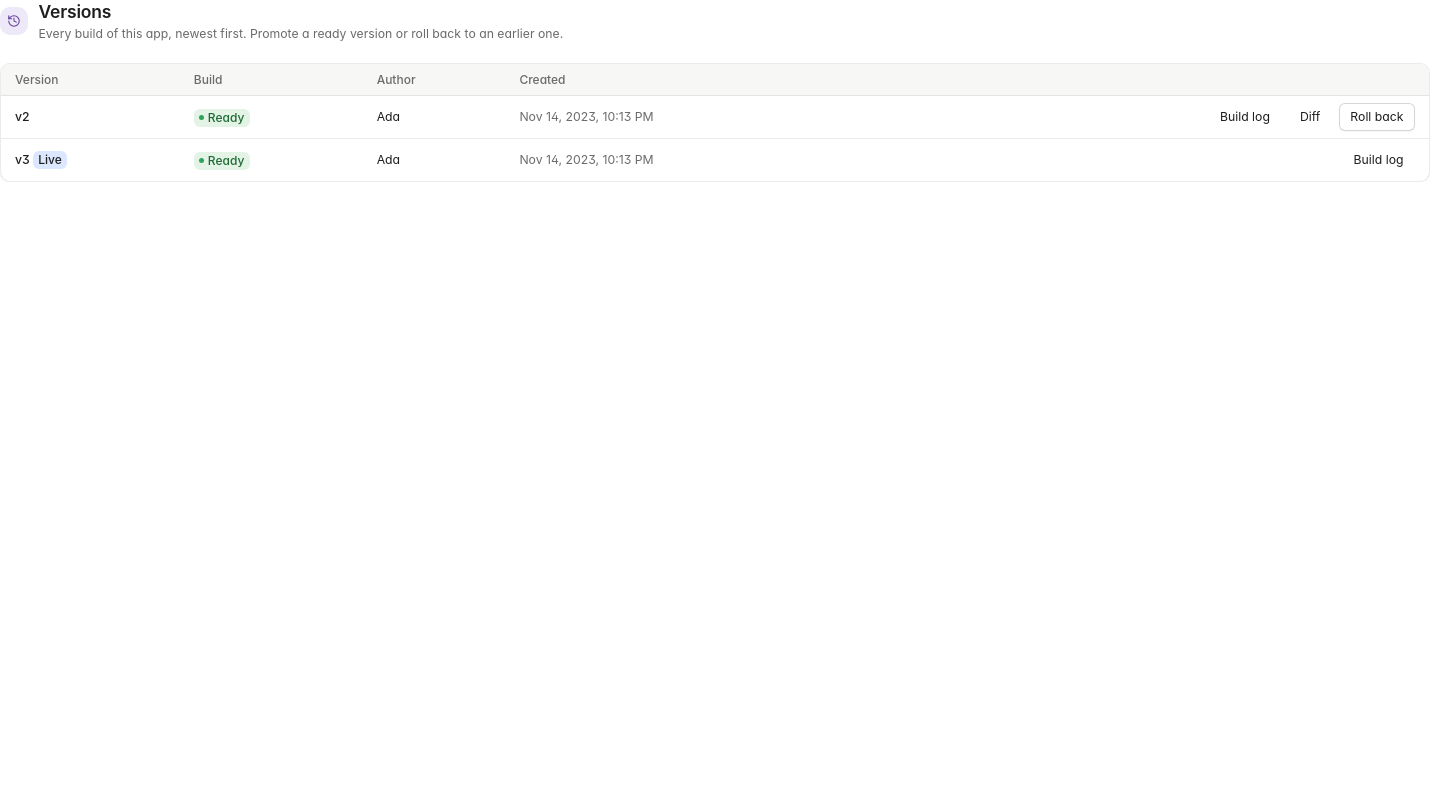
VersionsView › diff lists changed files against live
Step 1. Click the button with aria-label "Diff version 2 against live" → (1310, 117), box [1288,103,1332,131]
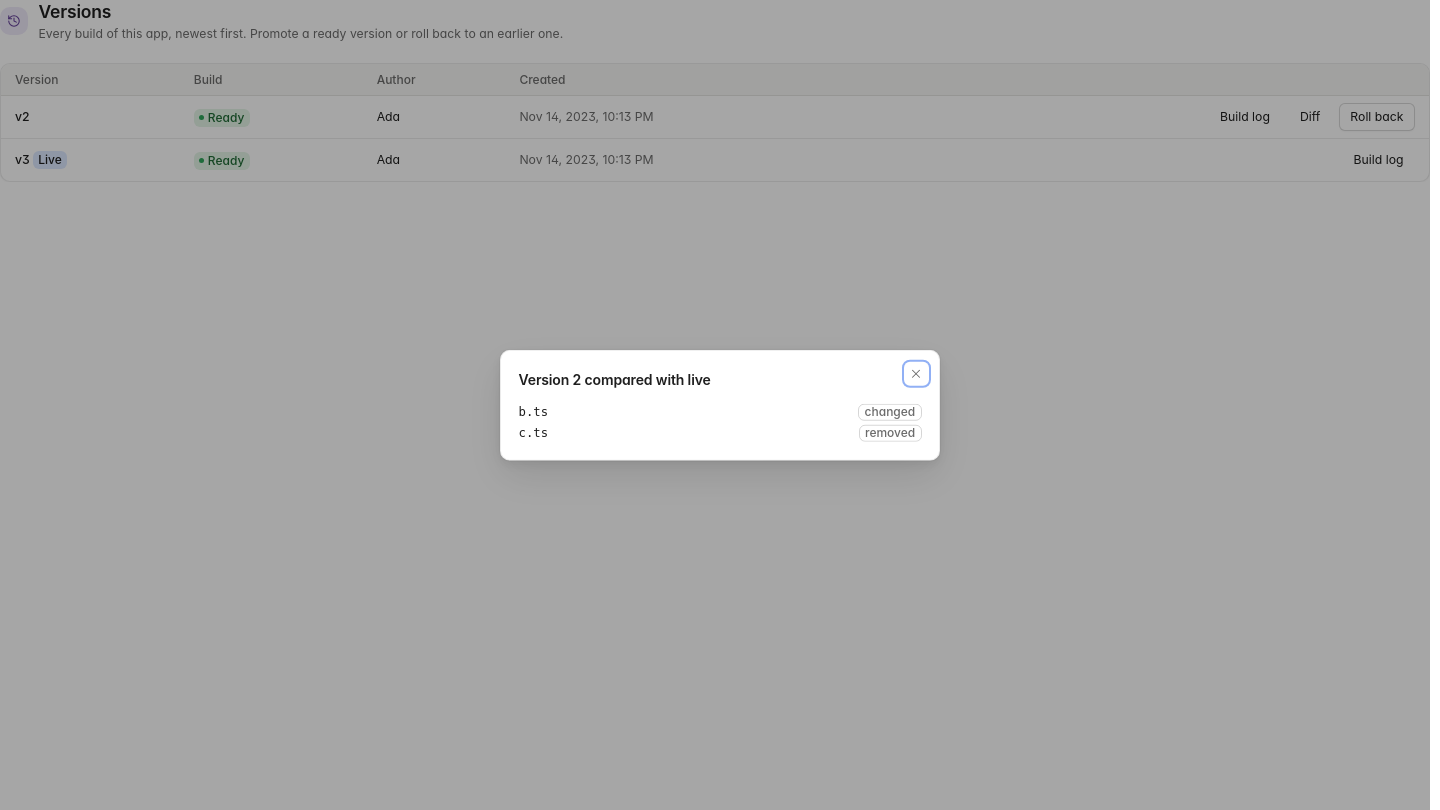
Now the text "b.ts" is shown, box [518,403,548,421]
Now the list item "b.ts" shows "changed", box [865,404,915,419]
Now the list item "c.ts" shows "removed", box [865,425,915,440]
